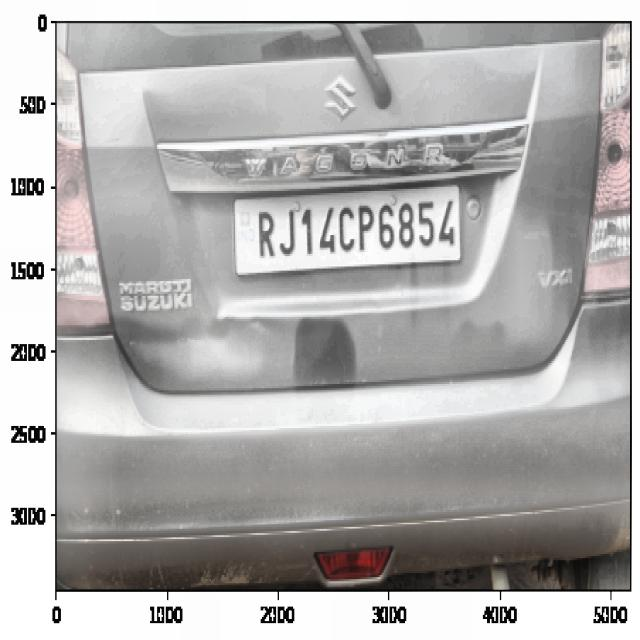license_plate: (250, 200, 460, 258)
